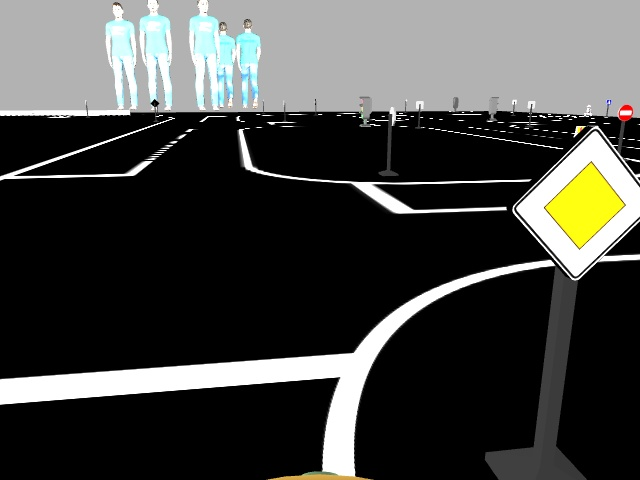NoEntry: (614, 104, 633, 122)
Priority: (509, 125, 639, 280)
